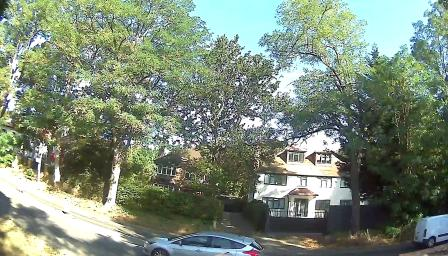Cars: (122, 230, 309, 250), (419, 210, 448, 246)
